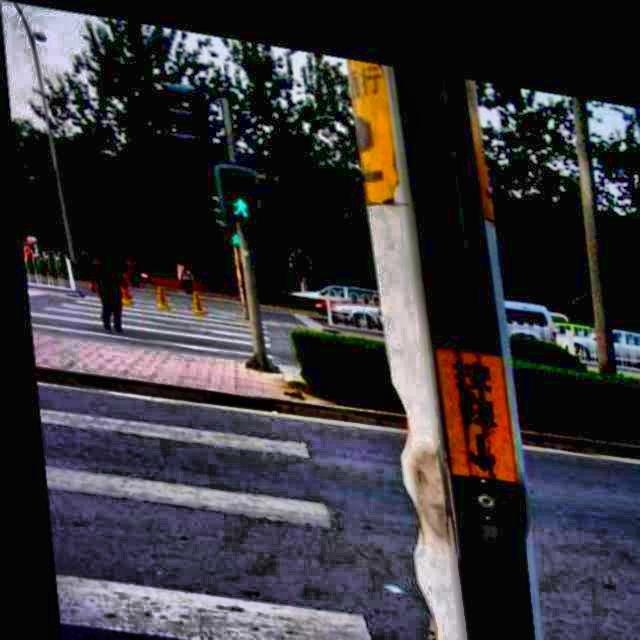semaforo pedestre: (193, 133, 279, 239)
